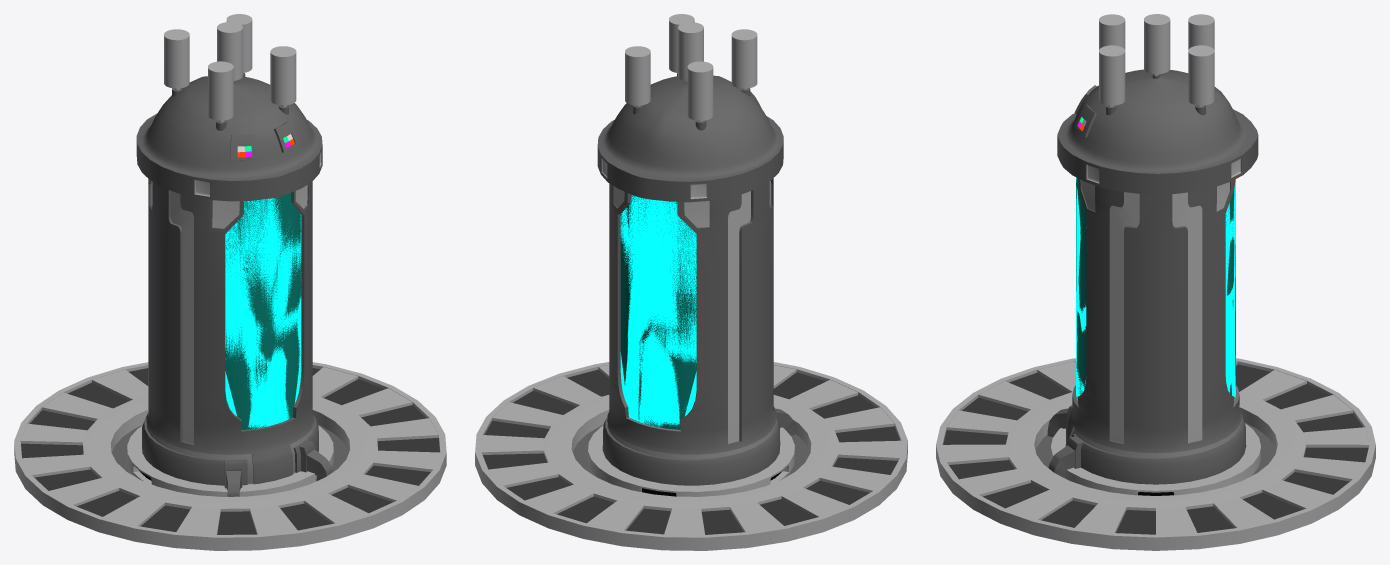
Rendered from Cure (1).fbx.
3 views of the same model, side by side, from view 1: azimuth 30°, elevation 25°; view 2: azimuth 150°, elevation 25°; view 3: azimuth 270°, elevation 25° (orthographic).
Parts seen in each view (by area): view 1: Cure, Cure Base, Cure - Bottom Support; view 2: Cure, Cure Base, Cure - Bottom Support; view 3: Cure, Cure Base, Cure - Bottom Support.
Part boxes in pixels (x1,y1,x2,y2): Cure: [136, 14, 332, 496]; Cure Base: [14, 362, 446, 550]; Cure - Bottom Support: [127, 425, 333, 496]; Cure: [597, 14, 794, 485]; Cure Base: [475, 362, 907, 550]; Cure - Bottom Support: [588, 425, 794, 496]; Cure: [1047, 14, 1258, 484]; Cure Base: [936, 358, 1375, 550]; Cure - Bottom Support: [1051, 423, 1260, 495].
Size of what is drawn, in the model's own units: 1547 by 1715 by 1547.
